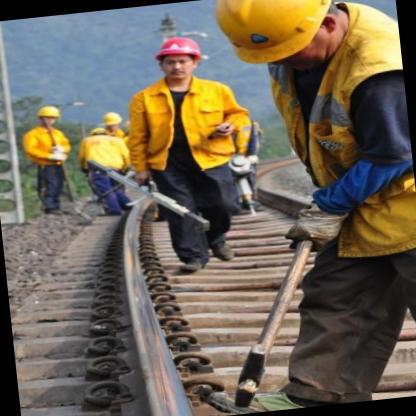helmet: (206, 0, 356, 71), (147, 26, 209, 87), (32, 99, 62, 133), (100, 108, 124, 136)
